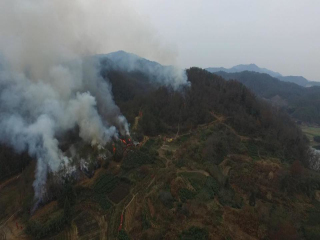smoke: (1, 5, 191, 181)
